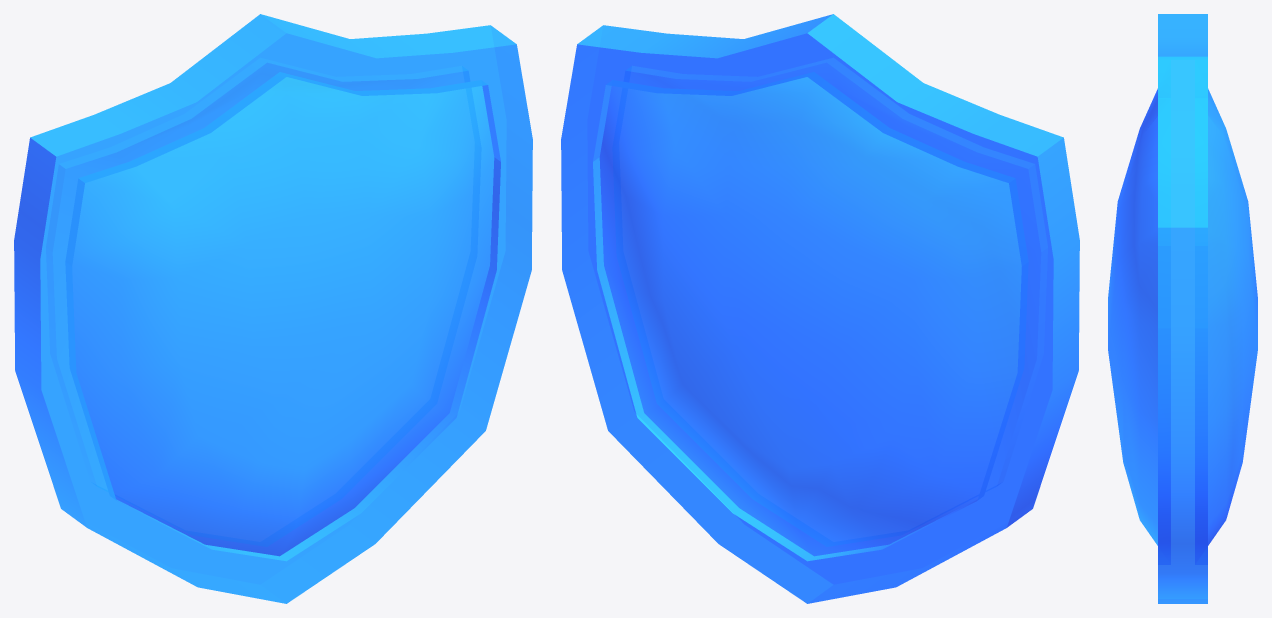
The model's file is Bumper_Symbol_v001.fbx.
3 views of the same model, side by side, from view 1: azimuth 30°, elevation 25°; view 2: azimuth 150°, elevation 25°; view 3: azimuth 270°, elevation 25° (orthographic). The views are drawn at different scales.
Visible parts, largest first — view 1: Bumper_Mesh; view 2: Bumper_Mesh; view 3: Bumper_Mesh.
Part boxes in pixels (x1,y1,x2,y2): Bumper_Mesh: (14,14,532,603); Bumper_Mesh: (561,14,1079,603); Bumper_Mesh: (1108,14,1257,603).
Size of the model in its own units: 5.02 by 5.56 by 1.39.
